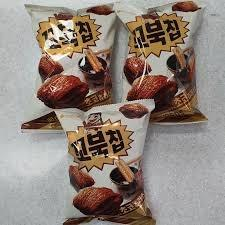snack: (52, 99, 157, 225), (20, 2, 116, 132), (114, 0, 207, 125)
